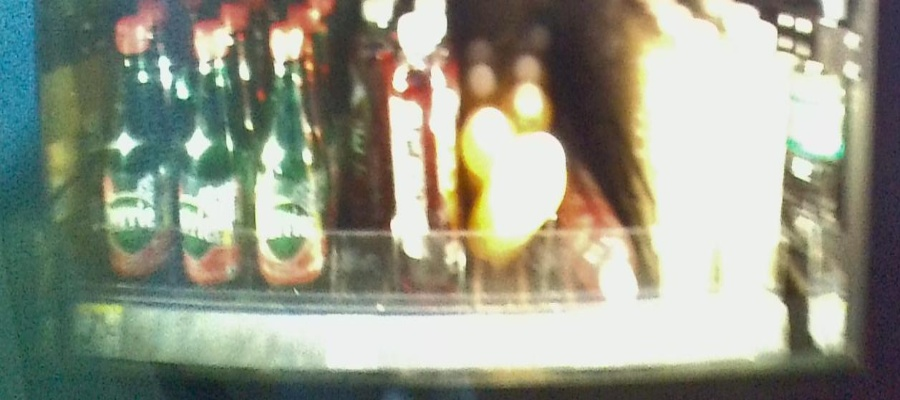bottle: (253, 13, 329, 292), (100, 11, 170, 280), (175, 15, 244, 285), (397, 7, 453, 296), (342, 2, 388, 235)
